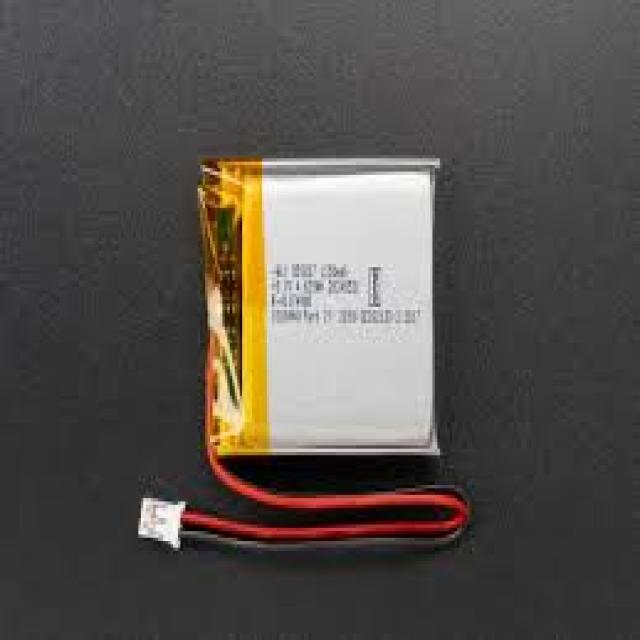Battery: (206, 156, 444, 467)
